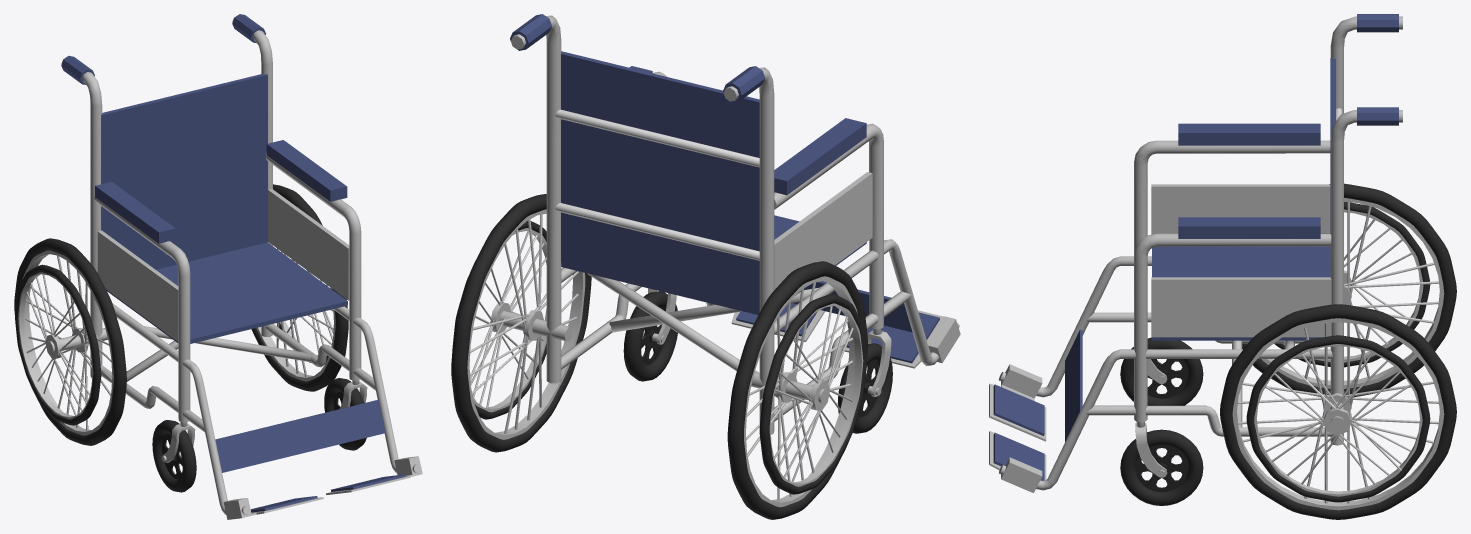
File: wheelchair.glb
3 renders of one model, left to right at view 1: azimuth 30°, elevation 25°; view 2: azimuth 150°, elevation 25°; view 3: azimuth 270°, elevation 25°, orthographic. The views are drawn at different scales.
Visible parts, largest first — view 1: Plane.005, Plane.004, Plane.014, Plane.010, Plane.011, Circle, Cylinder.124, Cylinder.015, Cylinder.016, Circle.001, Cylinder.017, Circle.002 (+18 smaller); view 2: Plane.005, Circle, Circle.002, Plane.011, Cylinder.019, Cylinder.016, Circle.001, Cylinder.015, Cube.020, Circle.008, Cylinder.017, Circle.010 (+20 smaller); view 3: Plane.010, Circle.002, Plane.011, Plane.004, Cylinder.124, Circle, Circle.003, Cylinder.019, Circle.008, Cube.020, Cylinder.126, Cylinder.015 (+22 smaller).
Boxes of the visible parts, x1,y1,x2,y2 form: Plane.005: (101,73,267,269); Plane.004: (106,242,347,343); Plane.014: (215,400,385,472); Plane.010: (268,189,349,300); Plane.011: (97,230,178,341); Circle: (14,238,126,445); Cylinder.124: (265,153,361,380); Cylinder.015: (94,195,190,422); Cylinder.016: (61,58,102,377); Circle.001: (15,264,101,425); Cylinder.017: (94,299,250,514); Circle.002: (251,184,348,391); Plane.005: (561,51,759,310); Circle: (727,261,867,519); Circle.002: (451,194,591,452); Plane.011: (774,172,872,289); Cylinder.019: (511,15,561,383); Cylinder.016: (723,67,774,434); Circle.001: (759,294,866,494); Cylinder.015: (774,123,883,329); Cube.020: (774,118,866,195); Circle.008: (467,209,585,439); Cylinder.017: (774,239,959,366); Circle.010: (744,276,857,507); Plane.010: (1151,277,1331,337); Circle.002: (1220,304,1456,519); Plane.011: (1151,184,1330,234); Plane.004: (1152,246,1330,340); Cylinder.124: (1134,233,1331,422); Circle: (1242,183,1456,397); Circle.003: (1246,335,1430,502); Cylinder.019: (1330,110,1402,445); Circle.008: (1232,318,1444,510); Cube.020: (1178,123,1320,145); Cylinder.126: (999,349,1332,490); Cylinder.015: (1134,140,1330,253).
Size of the model in its own units: 3.18 by 4.1 by 4.37.
